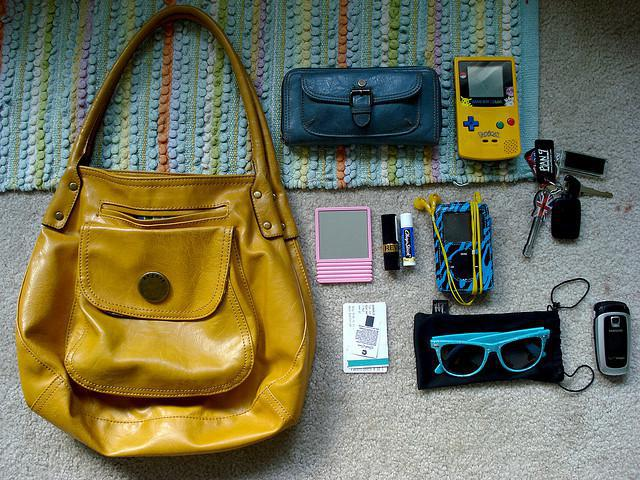phone: (591, 296, 635, 377)
